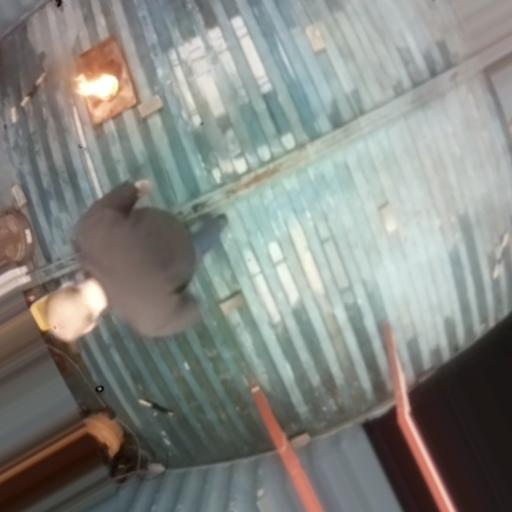Fire: (76, 73, 120, 97)
